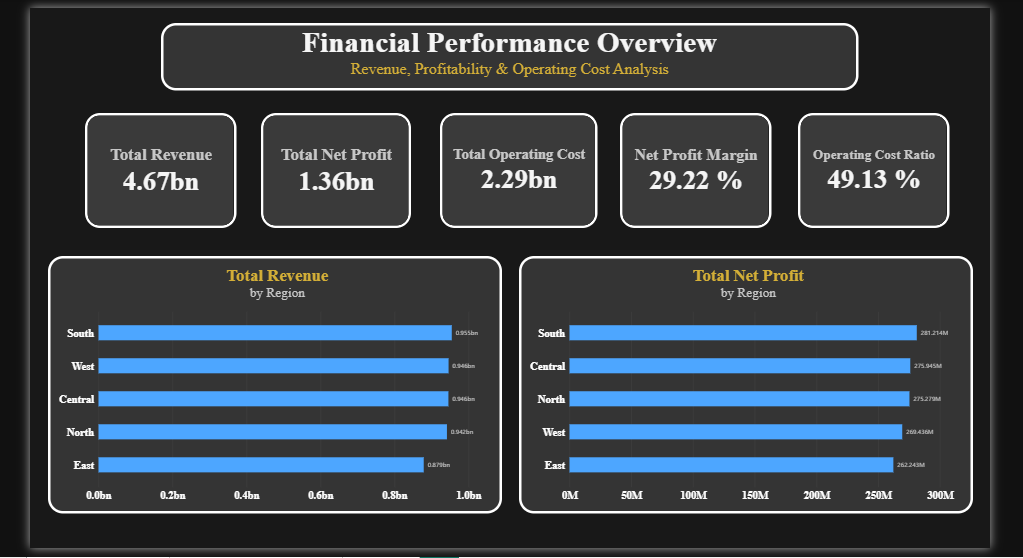

This screenshot's page, from the dashboard's own definition file:
{"tool":"powerbi","page":{"name":"Financial Overview","canvas":[1920,1080],"ordinal":0},"visuals":[{"type":"cardVisual","fields":{"Data":["Fact_Financial_Performance.Total Revenue"]},"box":[110,210,302.5,230],"z":0},{"type":"cardVisual","fields":{"Data":["Fact_Financial_Performance.Total Net Profit"]},"box":[462.5,210,300,230],"z":1000},{"type":"cardVisual","fields":{"Data":["Fact_Financial_Performance.Total Operating Cost"]},"box":[820,210,315,230],"z":2000},{"type":"cardVisual","fields":{"Data":["Fact_Financial_Performance.Operating Cost Ratio"]},"box":[1535,210,302.5,230],"z":3000},{"type":"cardVisual","fields":{"Data":["Fact_Financial_Performance.Net Profit Margin"]},"box":[1180,210,302.5,230],"z":4000},{"type":"clusteredBarChart","fields":{"Category":["Dim_Region.Region"],"Y":["Fact_Financial_Performance.Total Revenue"]},"box":[35,495,907.5,515],"z":5000},{"type":"clusteredBarChart","fields":{"Category":["Dim_Region.Region"],"Y":["Fact_Financial_Performance.Total Net Profit"]},"box":[977.5,495,907.5,515],"z":6000},{"type":"textbox","box":[262.5,30,1395,135],"z":7000}]}

Visuals, with their boxes in screenshot pixels (x1, y1, x2, y2):
cardVisual - Fact_Financial_Performance.Total Revenue: bbox=(91, 111, 240, 224)
cardVisual - Fact_Financial_Performance.Total Net Profit: bbox=(264, 111, 411, 224)
cardVisual - Fact_Financial_Performance.Total Operating Cost: bbox=(439, 111, 594, 224)
cardVisual - Fact_Financial_Performance.Operating Cost Ratio: bbox=(790, 111, 938, 224)
cardVisual - Fact_Financial_Performance.Net Profit Margin: bbox=(616, 111, 764, 224)
clusteredBarChart - Dim_Region.Region x Fact_Financial_Performance.Total Revenue: bbox=(54, 251, 499, 503)
clusteredBarChart - Dim_Region.Region x Fact_Financial_Performance.Total Net Profit: bbox=(517, 251, 962, 503)
textbox: bbox=(166, 23, 850, 89)
